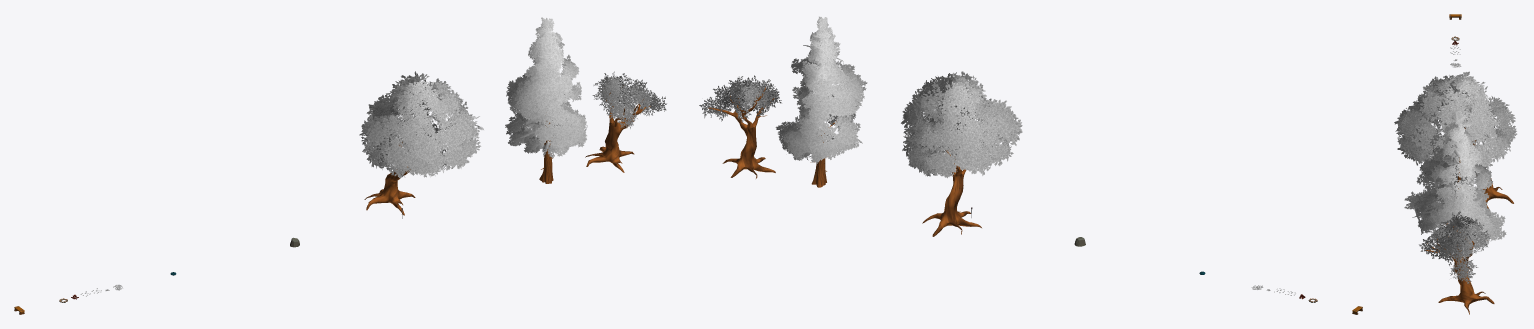
Rendered from campsite-kit.glb.
3 renders of one model, left to right at view 1: azimuth 30°, elevation 25°; view 2: azimuth 150°, elevation 25°; view 3: azimuth 270°, elevation 25°, orthographic. The views are drawn at different scales.
Parts seen in each view (by area): view 1: TreeA, TreeB, TreeC; view 2: TreeA, TreeB, TreeC; view 3: TreeA, TreeB, TreeC.
Boxes of the visible parts, x1,y1,x2,y2 form: TreeA: [359, 71, 483, 215]; TreeB: [505, 17, 587, 183]; TreeC: [585, 71, 666, 172]; TreeA: [901, 71, 1022, 236]; TreeB: [775, 16, 867, 187]; TreeC: [699, 75, 781, 178]; TreeA: [1394, 71, 1517, 208]; TreeB: [1404, 108, 1506, 271]; TreeC: [1419, 211, 1494, 314].
Size of the model in its own units: 119 by 28.86 by 20.78.
15 materials, 15 textured.
